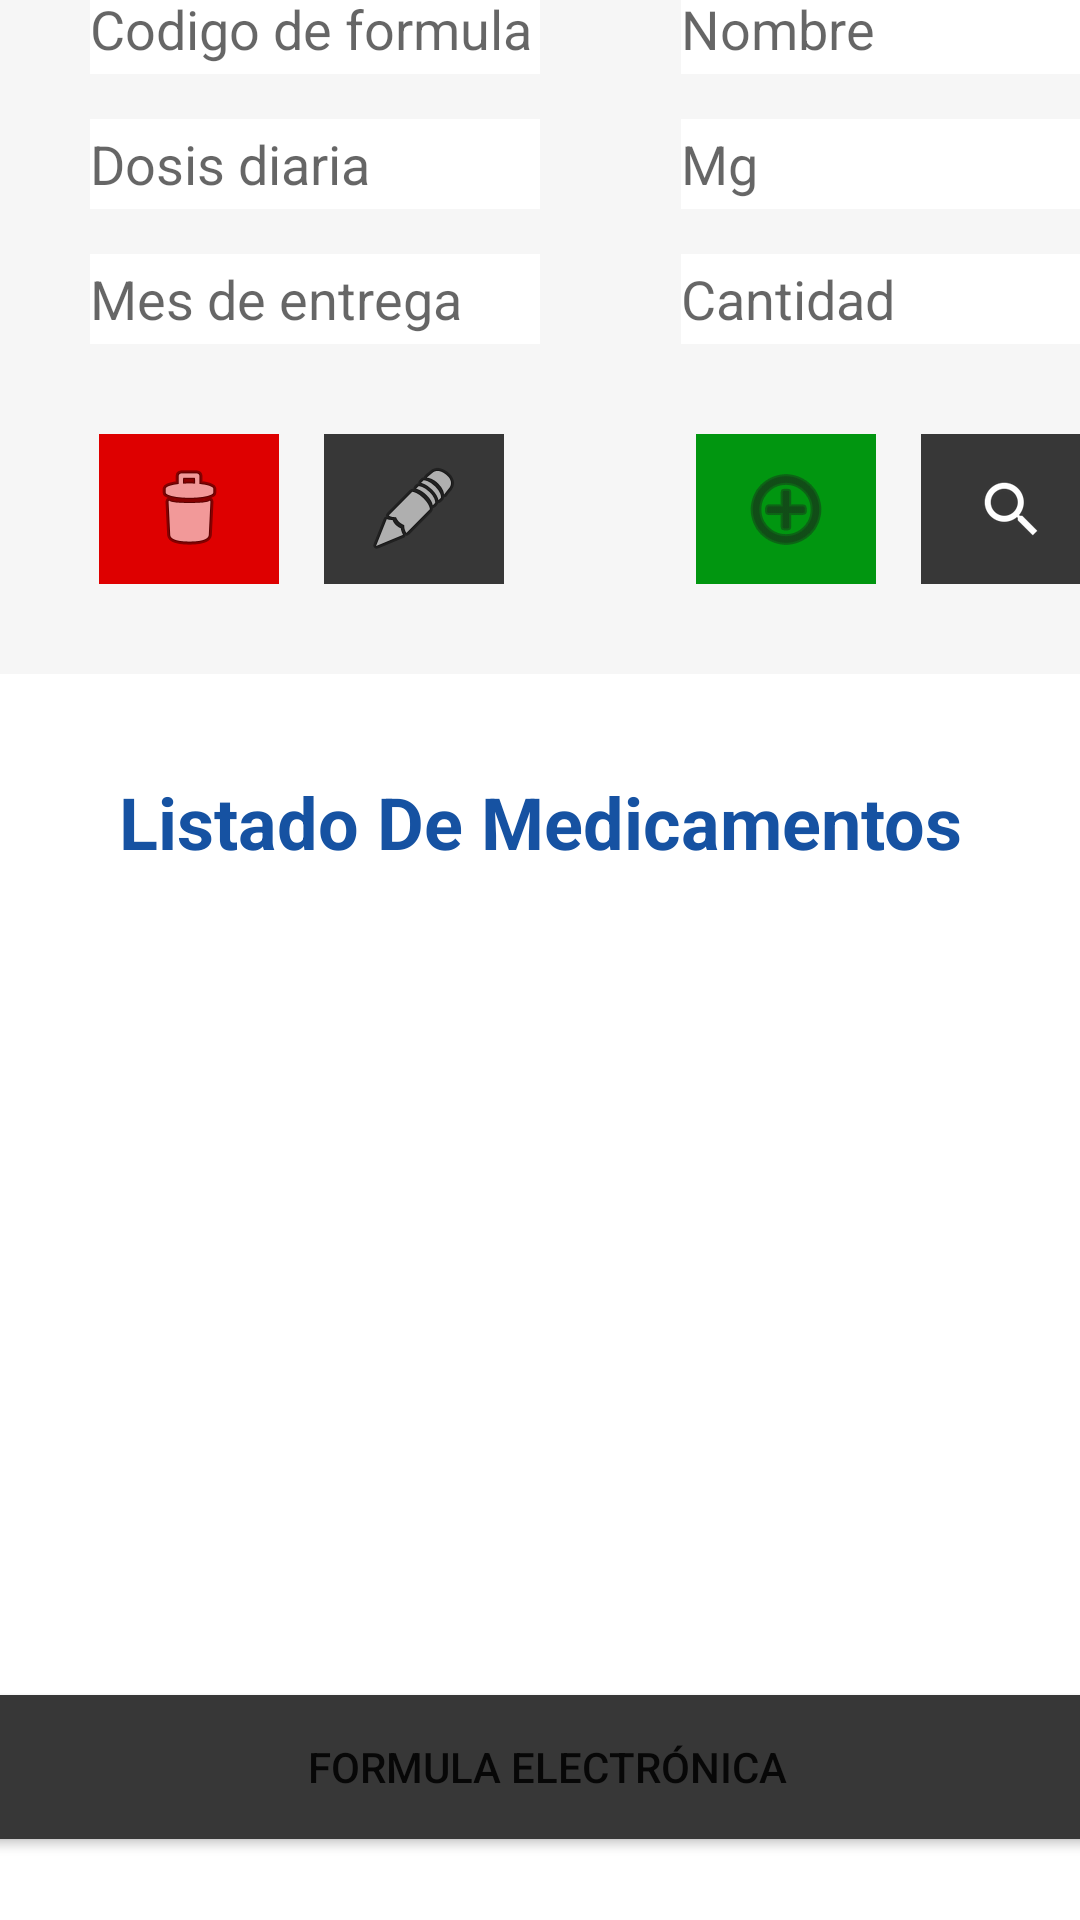

Screen size 1080 x 1920. Icon name, then its center in pixels as [x,y]:
add: [786,509]
delete: [189,509]
edit: [414,509]
